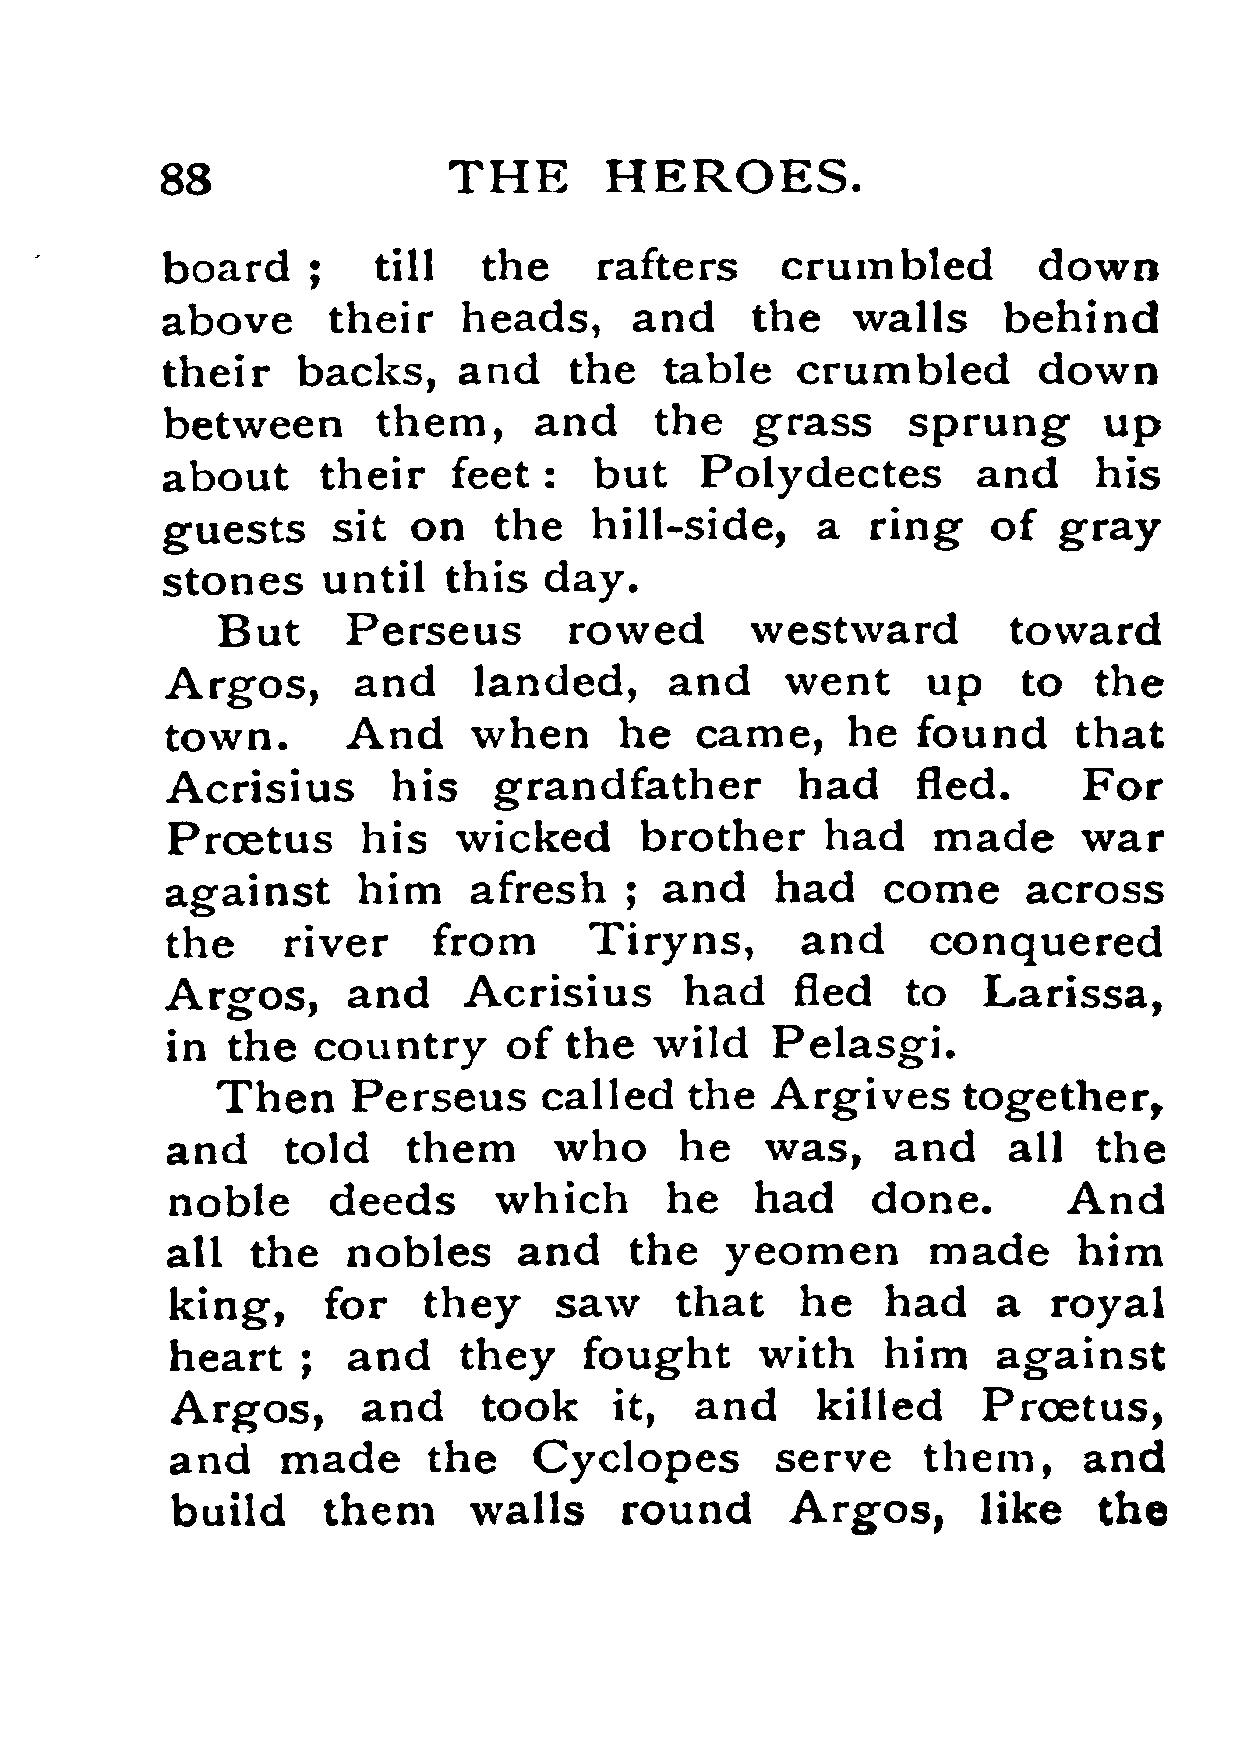content: (157, 238, 1172, 1537)
content_chapter: (439, 153, 862, 196)
content_pagenumber: (152, 148, 217, 207)
